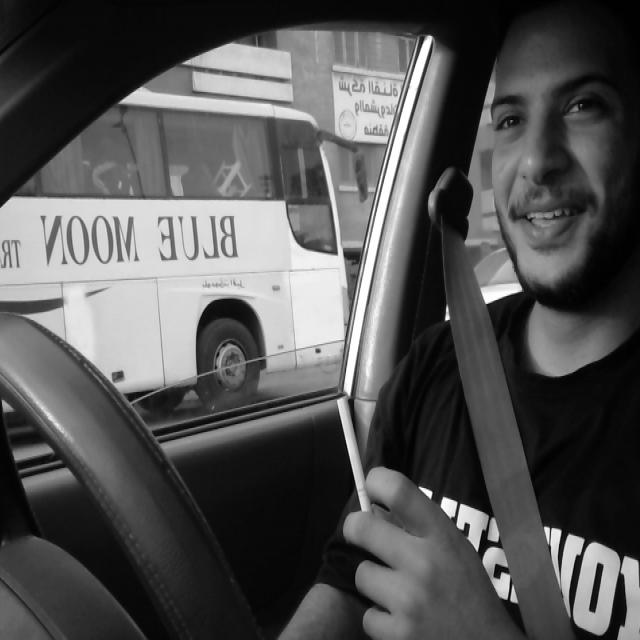smoking: (334, 378, 394, 534)
